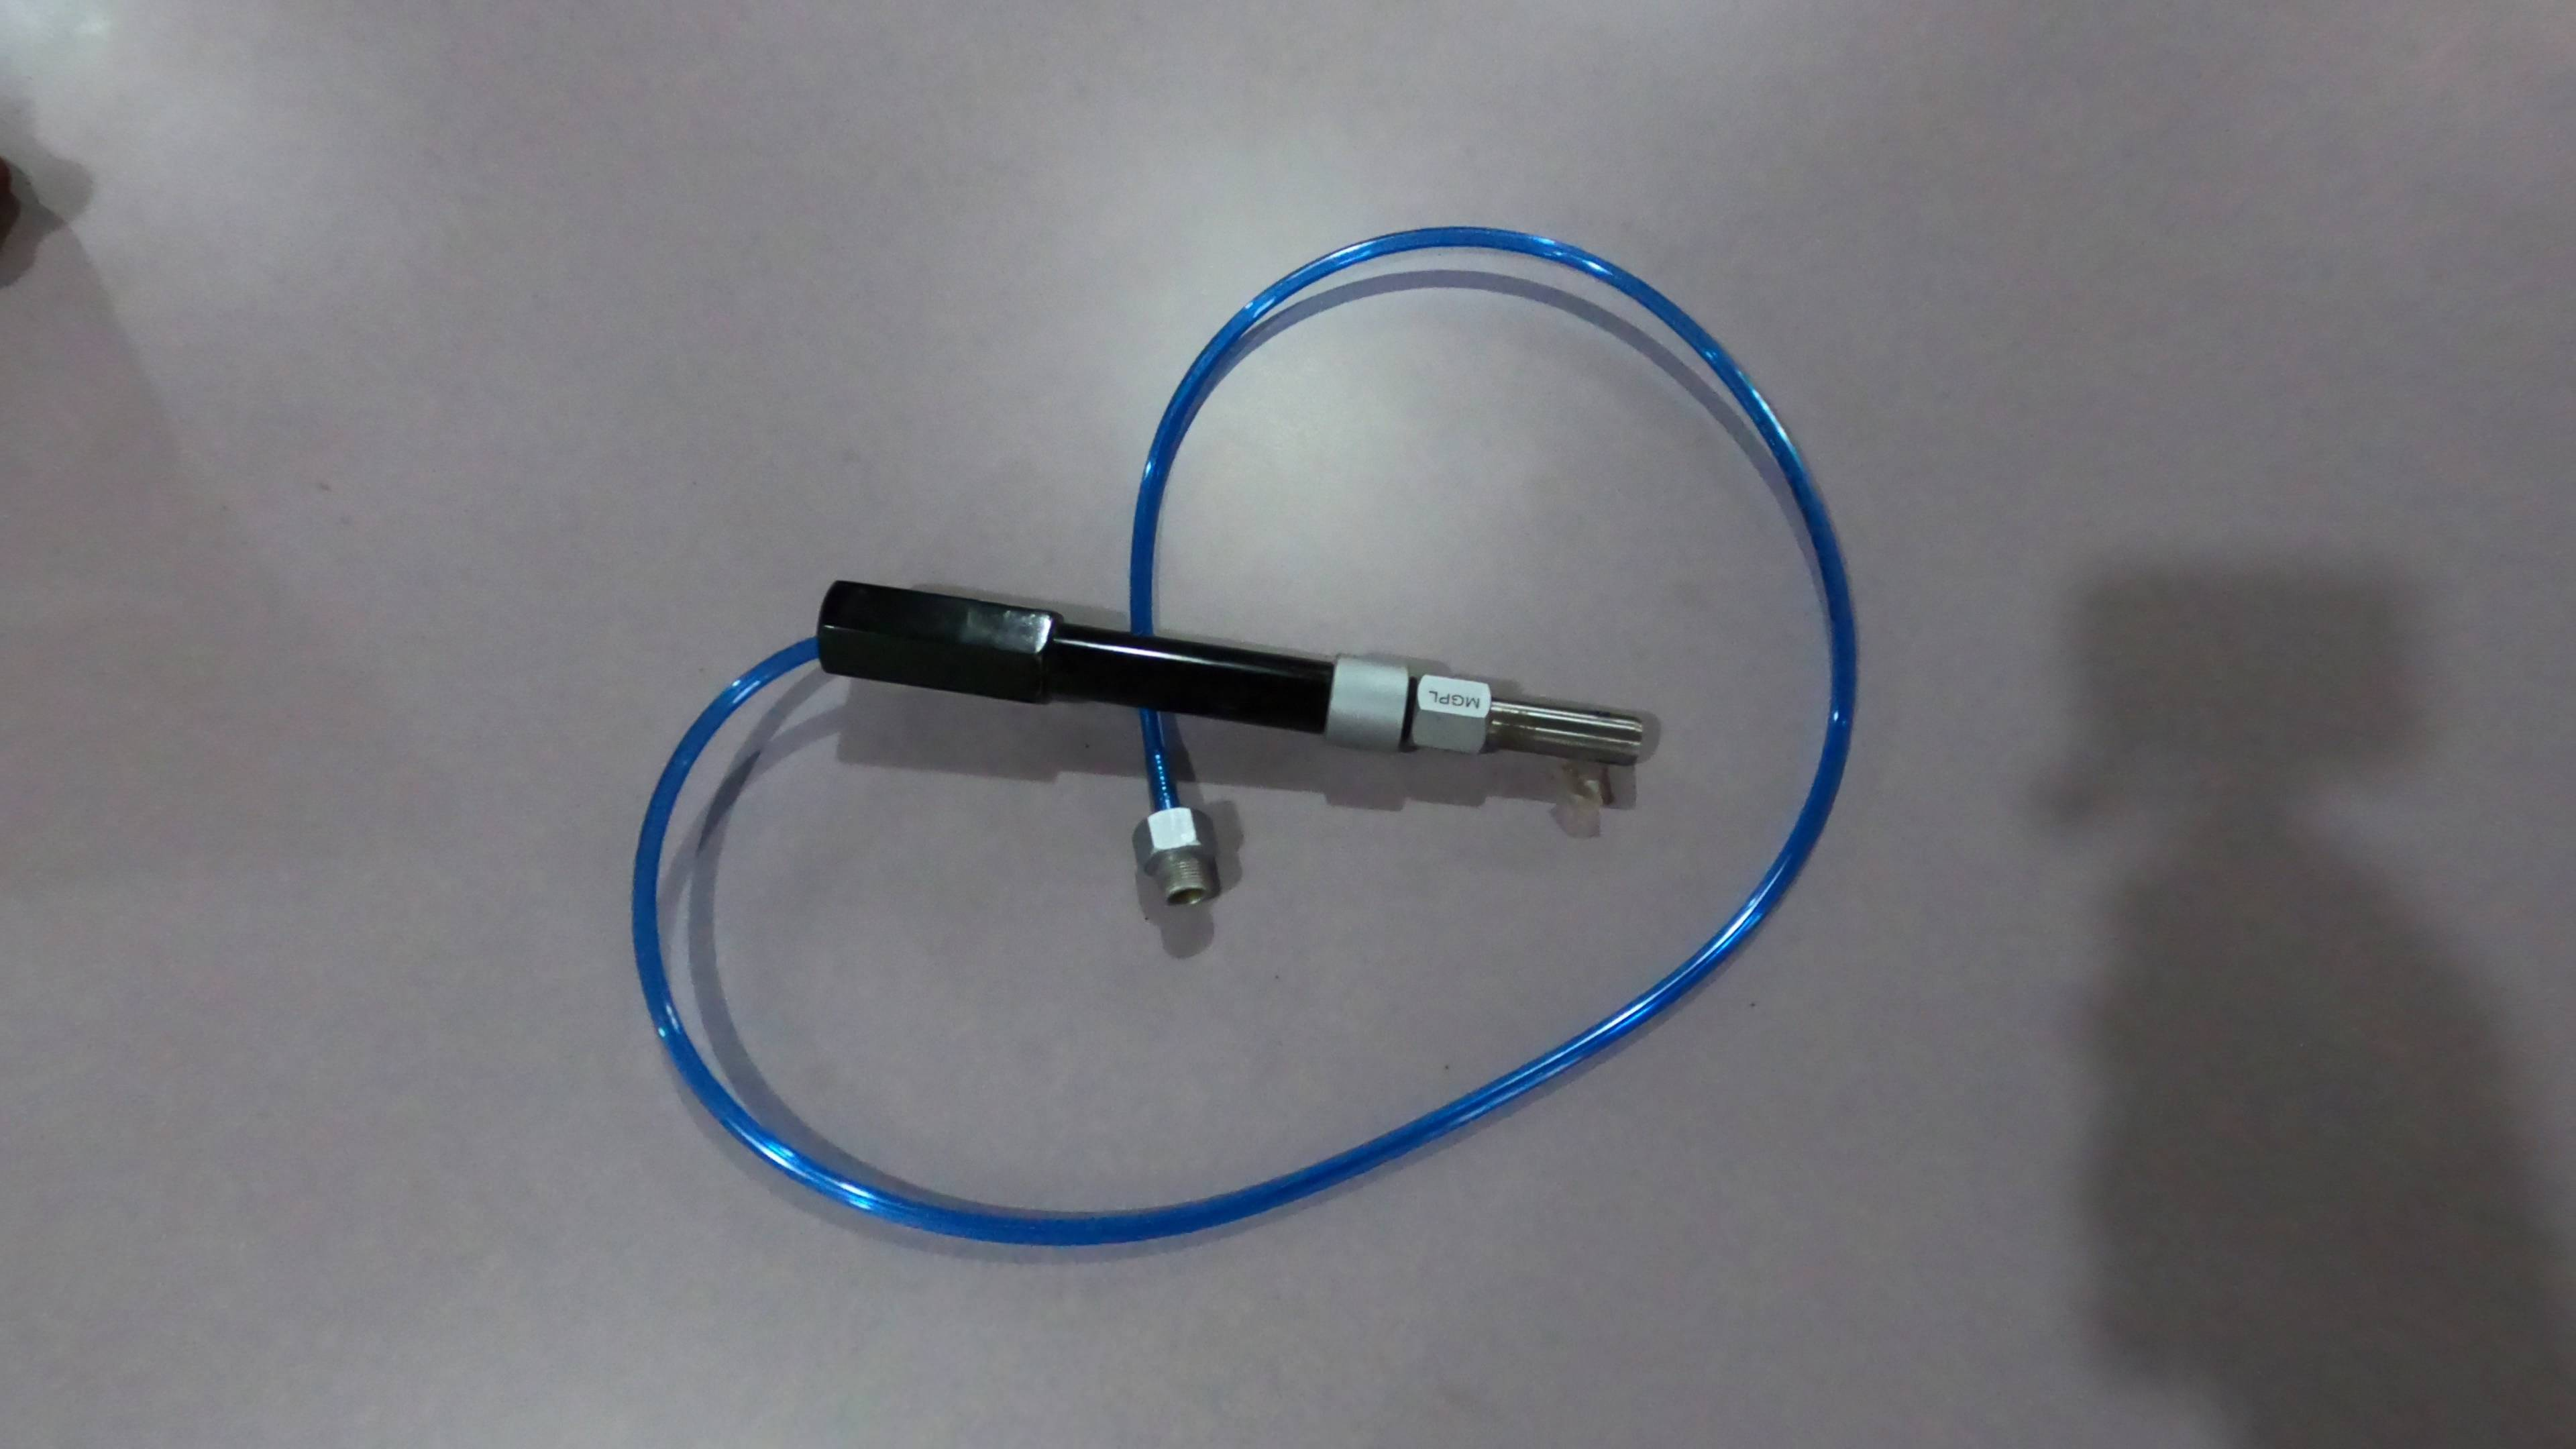air_gauge: (812, 559, 1642, 771)
